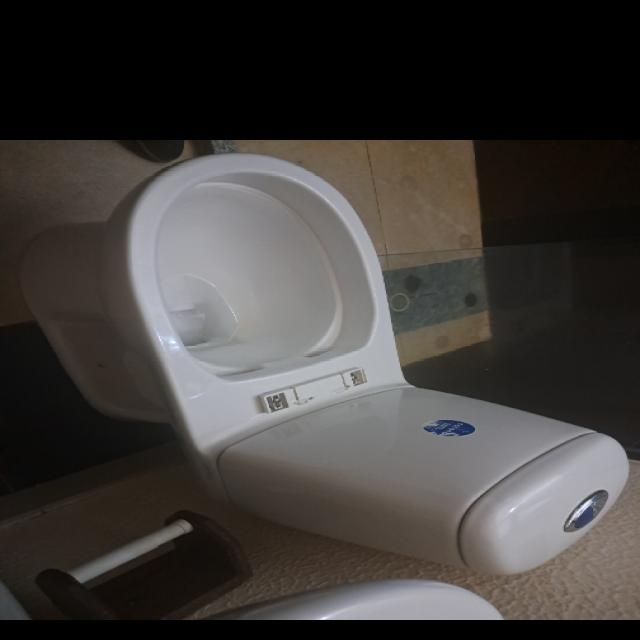toilet: (9, 144, 640, 580)
